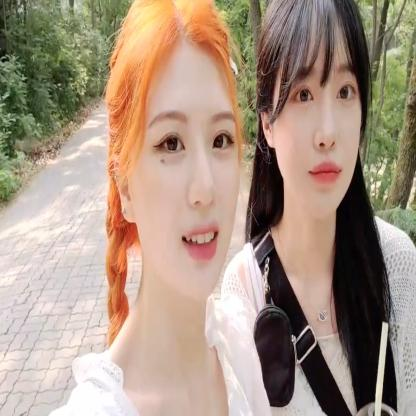streamer: (51, 0, 272, 416), (221, 0, 416, 416)
